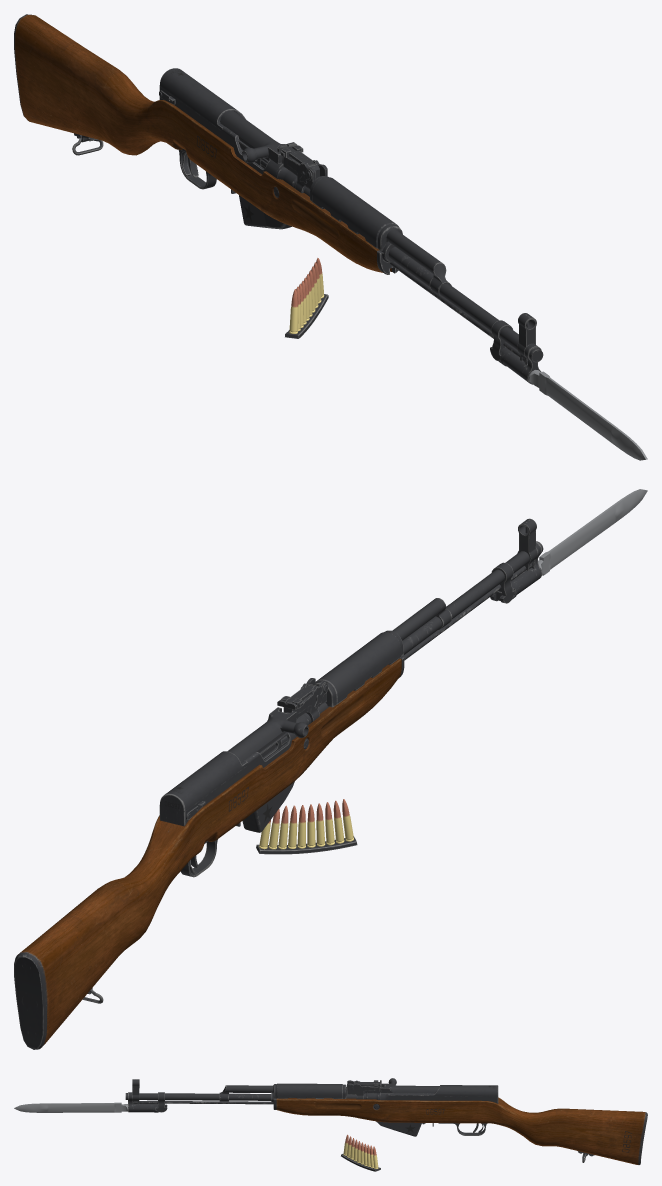
Rendered from SKS.fbx.
3 views of the same model, one above another, from view 1: azimuth 30°, elevation 25°; view 2: azimuth 150°, elevation 25°; view 3: azimuth 270°, elevation 25° (orthographic). The views are drawn at different scales.
Parts seen in each view (by area): view 1: SKS, bayonet, clip, bolt, fixed_mag; view 2: SKS, clip, bayonet, bolt, fixed_mag; view 3: SKS, bayonet, clip, bolt, fixed_mag.
Part boxes in pixels (x1,y1,x2,y2): SKS: [14, 14, 543, 365]; bayonet: [498, 343, 647, 460]; clip: [285, 258, 328, 338]; bolt: [220, 110, 287, 166]; fixed_mag: [239, 195, 291, 229]; SKS: [14, 518, 543, 1049]; clip: [256, 799, 357, 854]; bayonet: [496, 489, 647, 600]; bolt: [227, 707, 308, 762]; fixed_mag: [242, 781, 294, 832]; SKS: [125, 1079, 647, 1164]; bayonet: [14, 1092, 158, 1112]; clip: [341, 1134, 380, 1171]; bolt: [380, 1078, 439, 1093]; fixed_mag: [376, 1121, 421, 1136].
Bounding box in the file's own units: 4.15 × 9.14 × 61.6.
